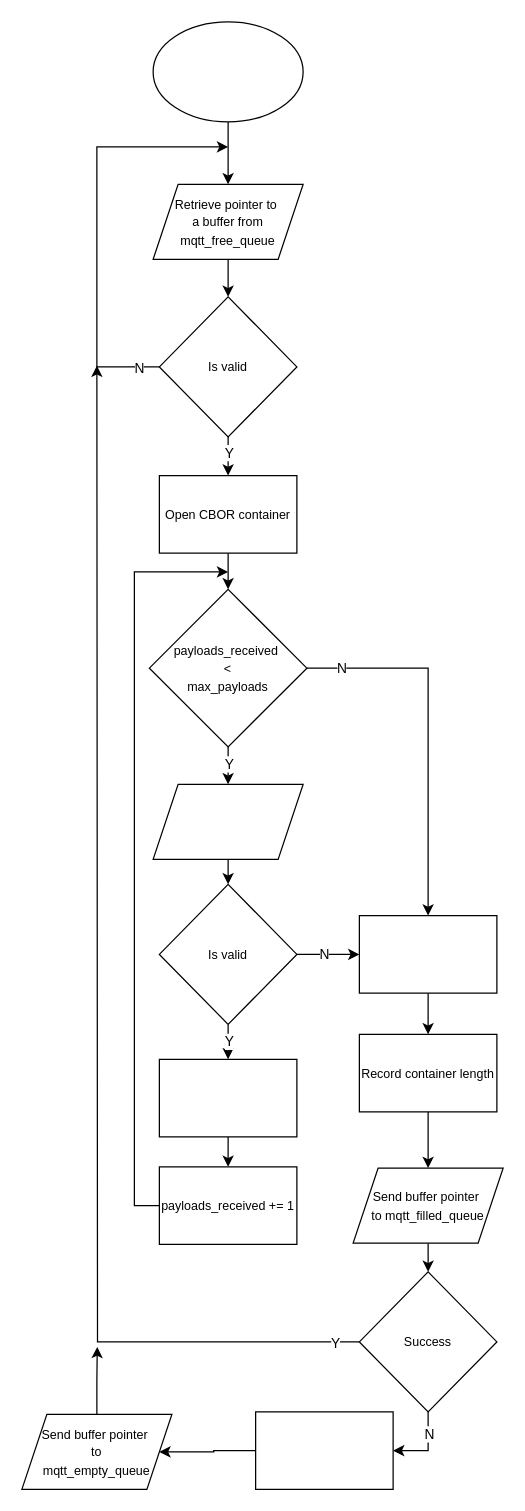
The diagram is 525 pixels wide and 1511 high, and some of its shapes have lost their labels. Each missing label, with the centre of its shape:
Close CBOR container: the point at 427,953
Encode payload with CBOR: the point at 227,1097
Enter Task: the point at 227,71
Reset buffer: the point at 323,1450
Retrieve sensor payload: the point at 227,821
